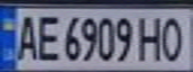0: (97, 14, 118, 62)
6: (60, 12, 81, 62)
9: (112, 14, 139, 62), (78, 14, 100, 62)
A: (9, 11, 42, 62)
E: (33, 11, 63, 62)
H: (136, 12, 166, 62)
O: (157, 12, 190, 62)
